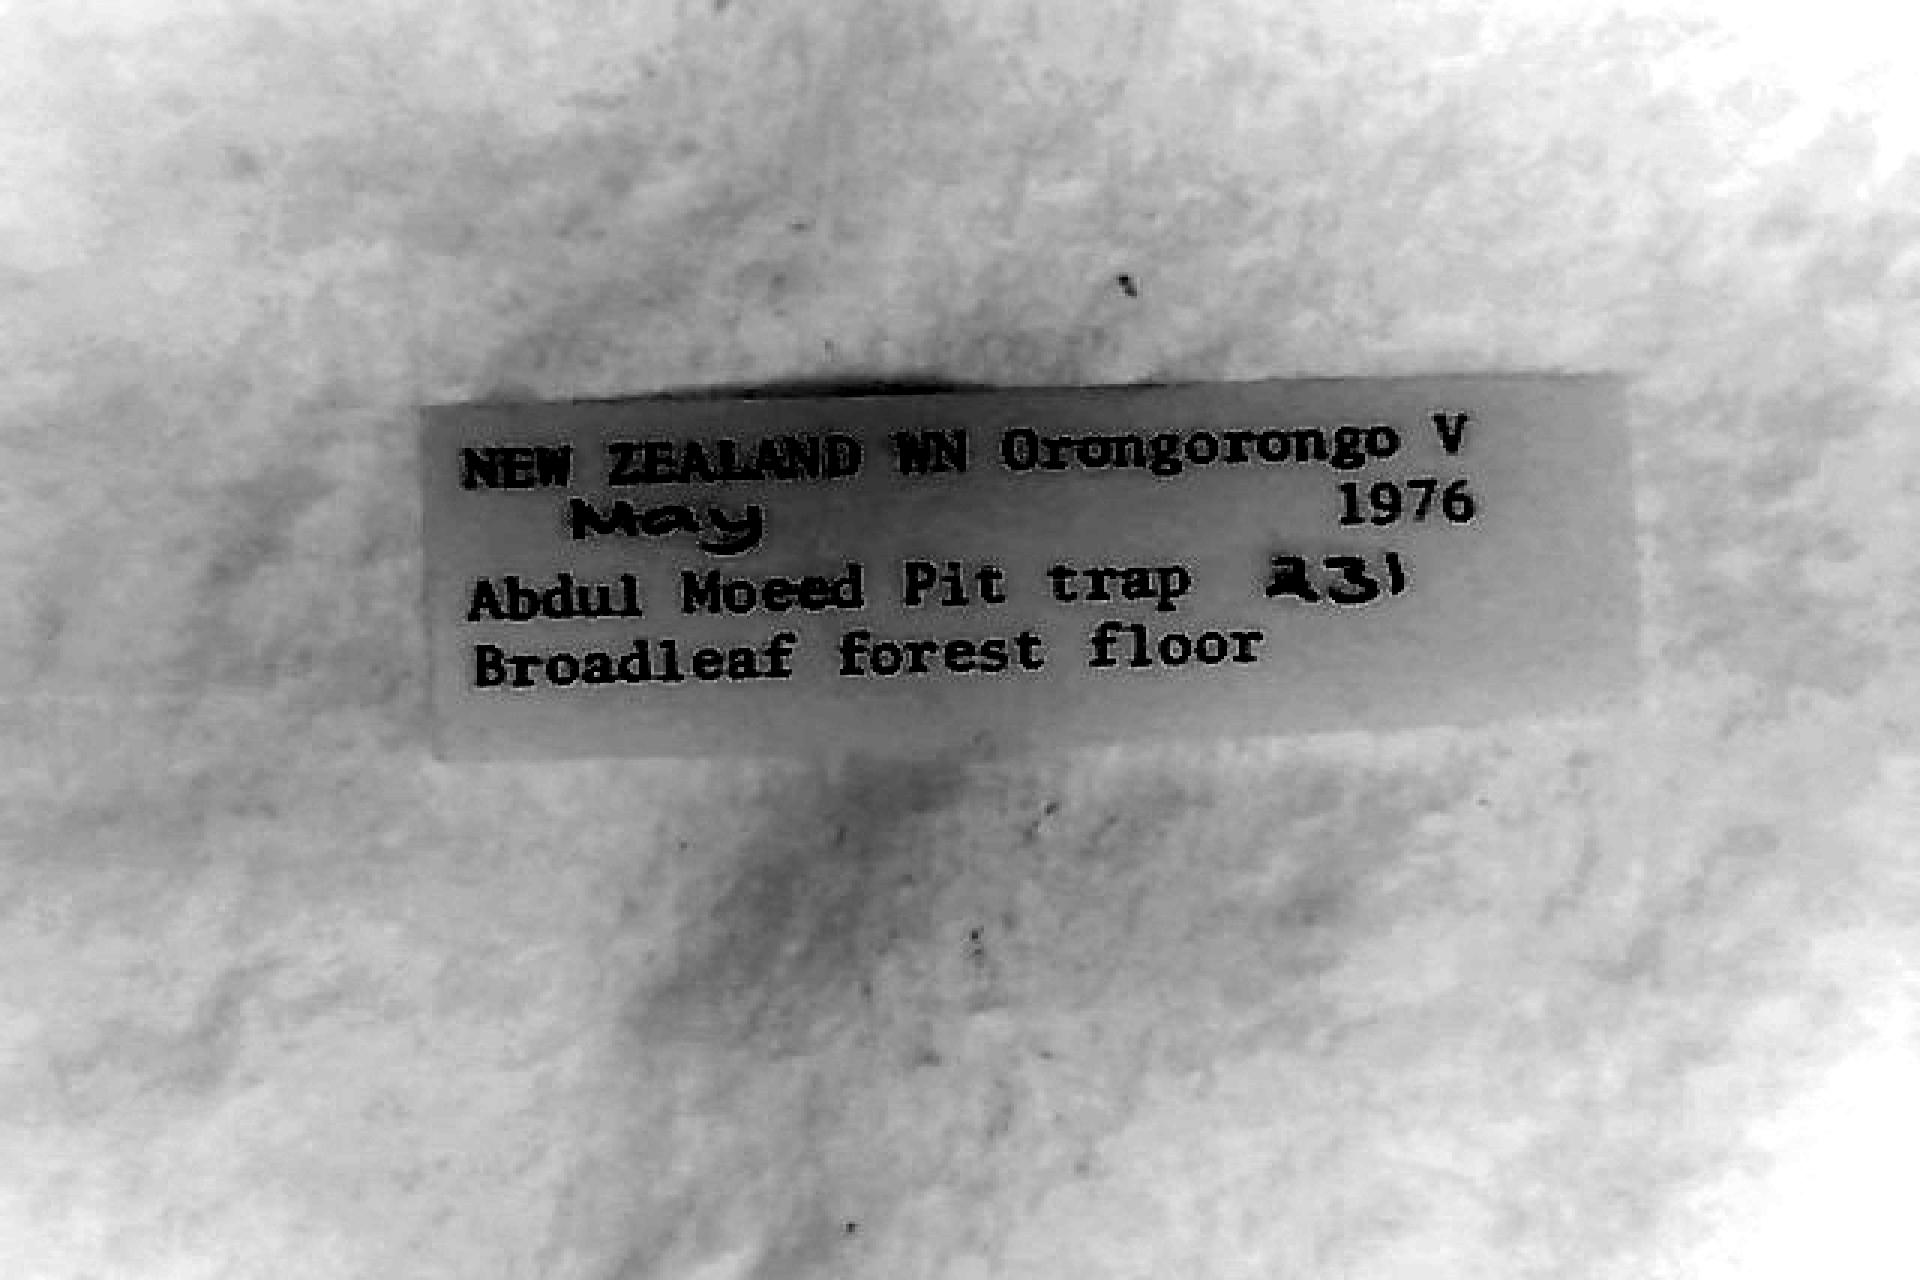mixed_label: (424, 377, 1635, 755)
